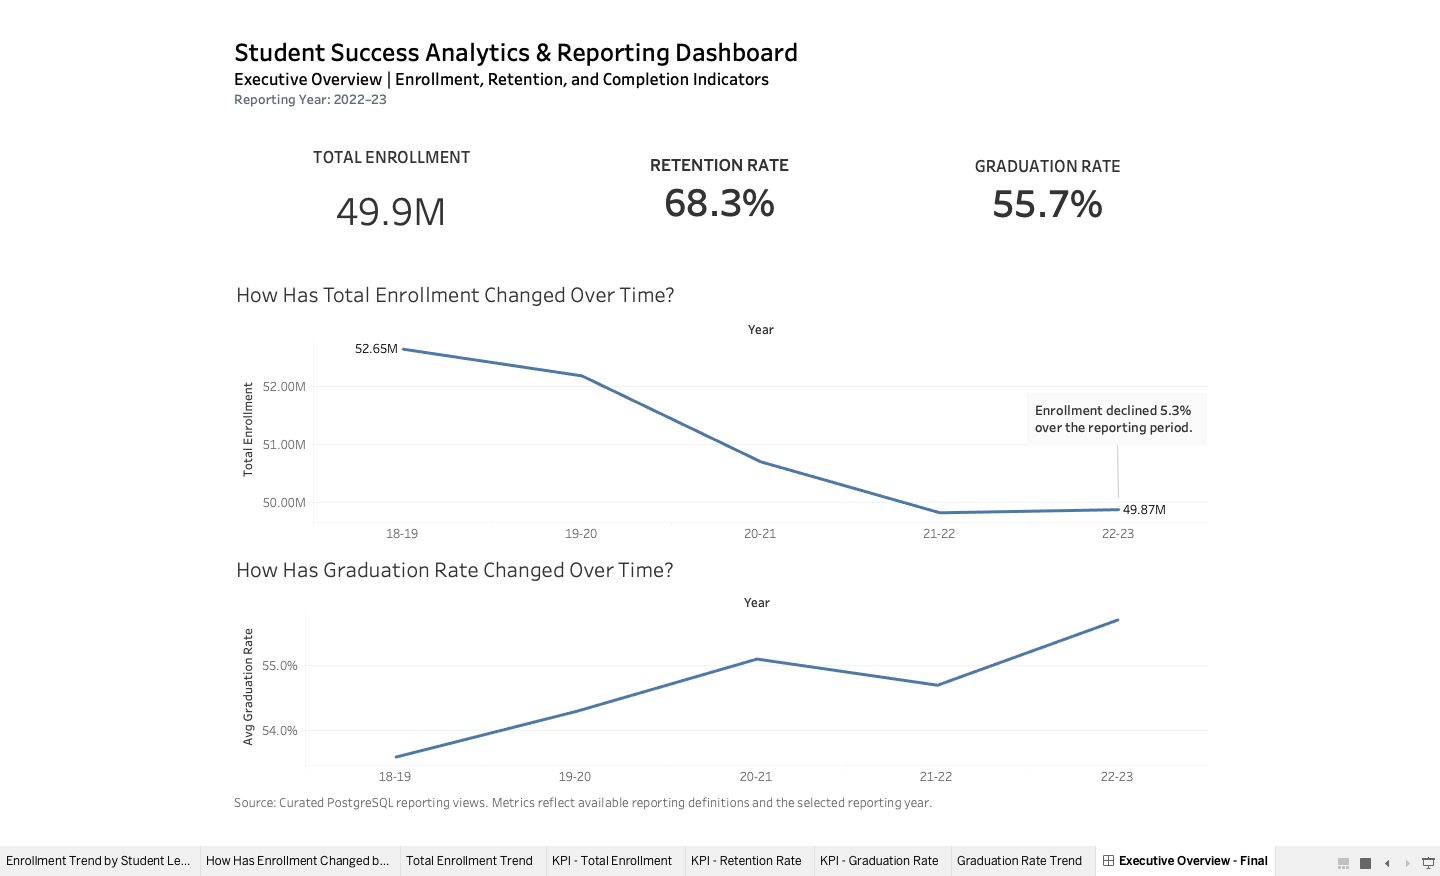

What the dashboard file says about the page in this screenshot:
{"tool":"tableau","page":{"name":"Executive Overview - Final","canvas":[1000,800],"ordinal":0},"visuals":[{"type":"text","box":[8,8,984,81]},{"type":"worksheet","title":"KPI - Total Enrollment","mark":"Text","box":[8,89,328,160]},{"type":"worksheet","title":"KPI - Retention Rate","mark":"Text","box":[336,89,328,160]},{"type":"worksheet","title":"KPI - Graduation Rate","mark":"Automatic","box":[664,89,328,160]},{"type":"worksheet","title":"Total Enrollment Trend","mark":"Line","rows":["total_enrollment"],"cols":["year"],"box":[8,249,984,275]},{"type":"worksheet","title":"Graduation Rate Trend","mark":"Line","rows":["avg_graduation_rate"],"cols":["year"],"box":[8,524,984,243]},{"type":"text","box":[8,767,984,25]}]}

Visuals, with their boxes on the page's 1000x800 design canvas (x1, y1, x2, y2). These are canvas units, not pixel positions in the 1440x876 screenshot, which may show the page scaled, cropped or inside an application window:
text: [8, 8, 992, 89]
"KPI - Total Enrollment" worksheet (Text marks): [8, 89, 336, 249]
"KPI - Retention Rate" worksheet (Text marks): [336, 89, 664, 249]
"KPI - Graduation Rate" worksheet: [664, 89, 992, 249]
"Total Enrollment Trend" worksheet (Line marks): [8, 249, 992, 524]
"Graduation Rate Trend" worksheet (Line marks): [8, 524, 992, 767]
text: [8, 767, 992, 792]
